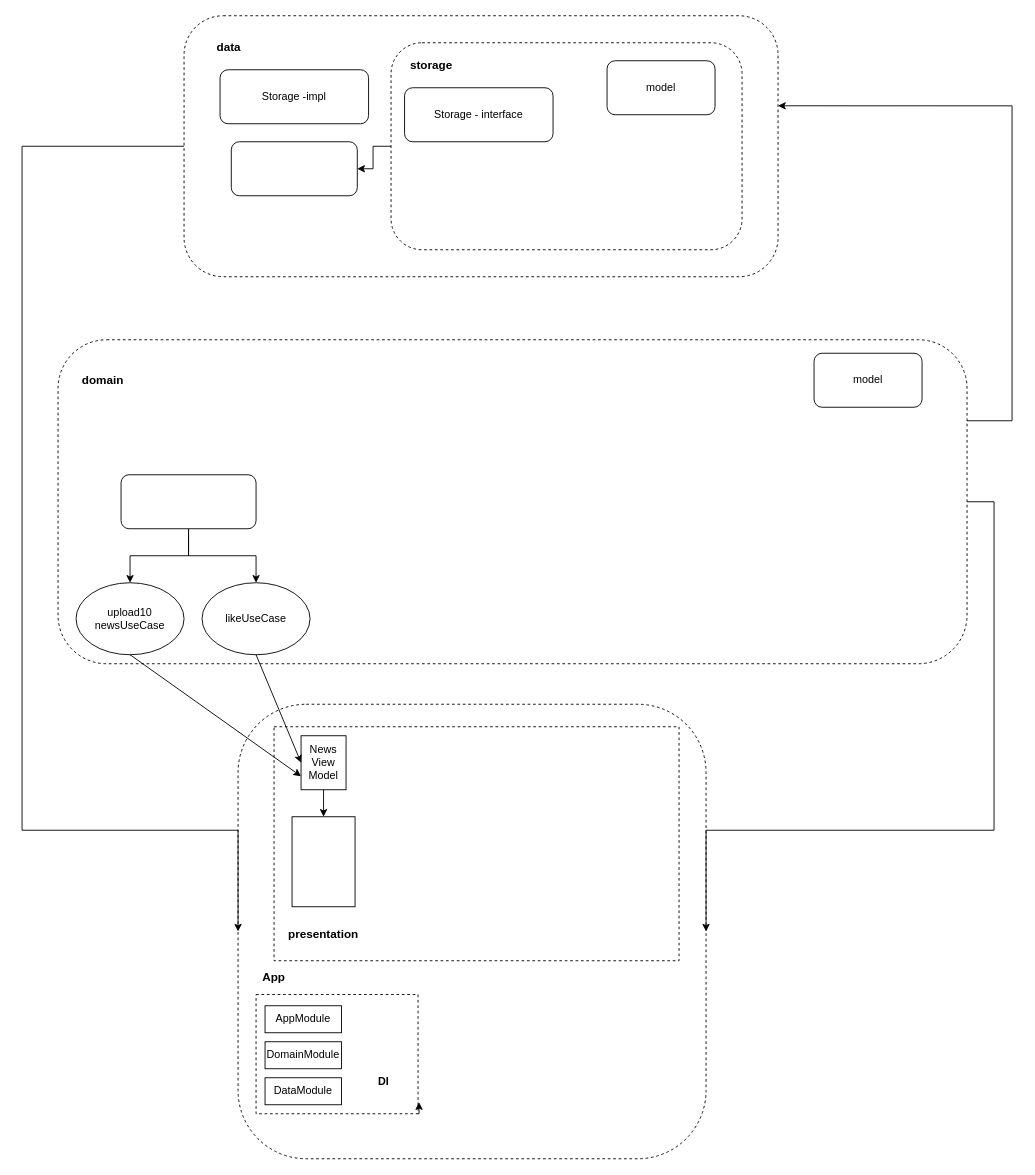
Some shapes in this 1035 by 1175 pixel diagram are drawn without their labels. The centre of each missing label's shape, as x and y in pixels:
"News Screen" belongs at [323,861].
"Repository- interace" belongs at [188,501].
"RepositoryImpl- implementation" belongs at [293,168].
